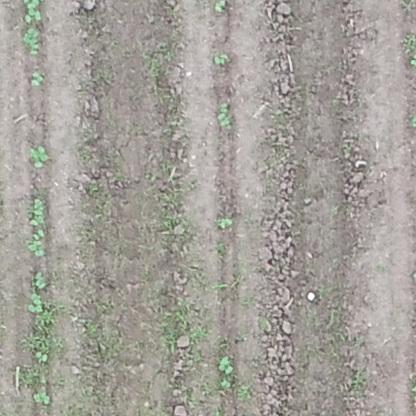vc: (216, 99, 235, 130), (24, 26, 43, 54), (22, 1, 45, 22), (29, 144, 49, 168), (29, 197, 44, 225), (31, 270, 51, 290), (216, 354, 235, 375), (26, 293, 44, 315), (28, 240, 47, 256), (32, 389, 52, 404), (33, 350, 50, 363), (214, 52, 229, 66), (217, 215, 233, 228), (30, 71, 43, 86), (213, 1, 228, 13), (32, 229, 44, 239), (220, 379, 232, 388)
